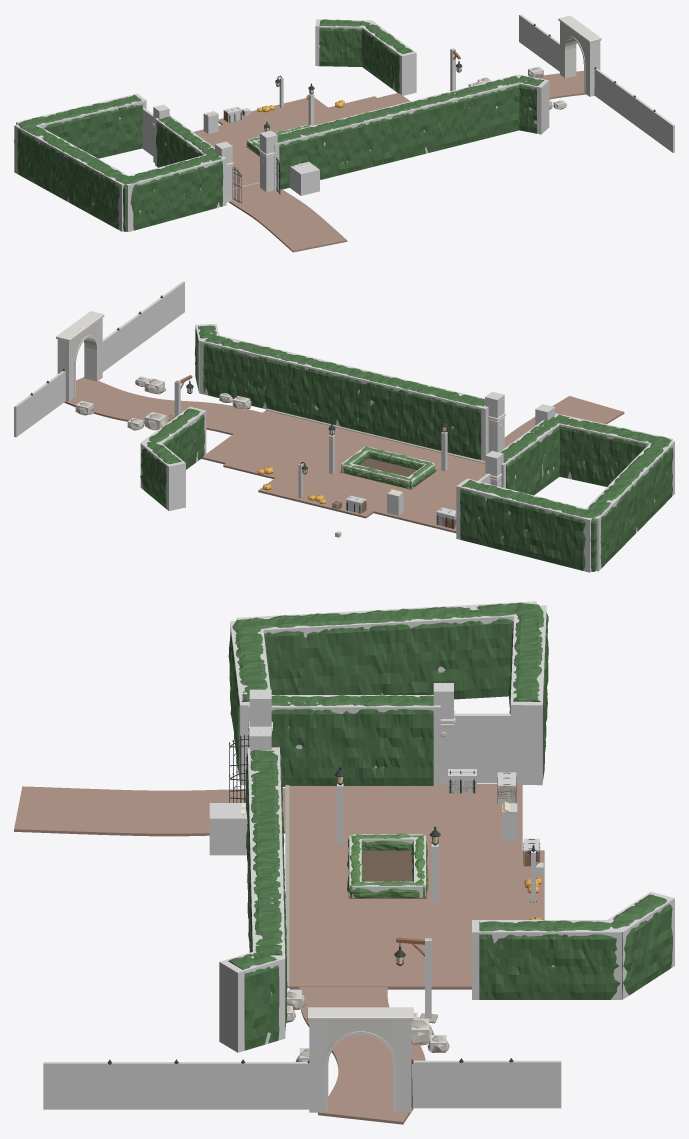
Rendered from AR_Assepoester_omgeving_v1.fbx.
The picture shows the model from 3 angles, top to bottom: view 1: azimuth 30°, elevation 25°; view 2: azimuth 150°, elevation 25°; view 3: azimuth 270°, elevation 25°; orthographic projection. The views are drawn at different scales.
Visible parts, largest first — view 1: static__MAT_haag_0, static__MAT_haag_1, static__MAT_klinker_0, COLL_36, static__MAT_haag_2, COLL_6, COLL_37, COLL_9, static__MAT_omlijsting_0, COLL_12, static__MAT_stuc_0, COLL_8 (+10 smaller); view 2: static__MAT_haag_0, static__MAT_klinker_0, static__MAT_haag_1, COLL_36, COLL_6, static__MAT_buxus_0, COLL_37, static__MAT_omlijsting_0, COLL_10, COLL_13, COLL_9, static__MAT_haag_2 (+11 smaller); view 3: static__MAT_klinker_0, static__MAT_haag_1, static__MAT_haag_0, COLL_36, COLL_37, COLL_17, COLL_10, COLL_7, static__MAT_buxus_0, static__MAT_omlijsting_0, static__MAT_stuc_0, static__MAT_haag_2 (+15 smaller).
Boxes of the visible parts, x1=… form: static__MAT_haag_0: x1=95, y1=75, x2=543, y2=231; static__MAT_haag_1: x1=14, y1=21, x2=412, y2=217; static__MAT_klinker_0: x1=193, y1=70, x2=586, y2=252; COLL_36: x1=594, y1=68, x2=674, y2=152; static__MAT_haag_2: x1=319, y1=19, x2=412, y2=93; COLL_6: x1=274, y1=74, x2=526, y2=190; COLL_37: x1=519, y1=14, x2=559, y2=71; COLL_9: x1=14, y1=124, x2=128, y2=231; static__MAT_omlijsting_0: x1=152, y1=15, x2=601, y2=202; COLL_12: x1=361, y1=20, x2=416, y2=95; static__MAT_stuc_0: x1=560, y1=22, x2=589, y2=96; COLL_8: x1=126, y1=155, x2=226, y2=232; static__MAT_haag_0: x1=194, y1=325, x2=673, y2=512; static__MAT_klinker_0: x1=64, y1=377, x2=624, y2=533; static__MAT_haag_1: x1=140, y1=408, x2=657, y2=571; COLL_36: x1=102, y1=281, x2=184, y2=371; COLL_6: x1=199, y1=333, x2=488, y2=460; static__MAT_buxus_0: x1=341, y1=446, x2=435, y2=488; COLL_37: x1=14, y1=371, x2=65, y2=437; static__MAT_omlijsting_0: x1=56, y1=311, x2=545, y2=485; COLL_10: x1=456, y1=478, x2=592, y2=572; COLL_13: x1=140, y1=441, x2=185, y2=510; COLL_9: x1=586, y1=440, x2=674, y2=571; static__MAT_haag_2: x1=149, y1=447, x2=181, y2=508; static__MAT_klinker_0: x1=14, y1=784, x2=544, y2=1124; static__MAT_haag_1: x1=237, y1=602, x2=642, y2=999; static__MAT_haag_0: x1=228, y1=614, x2=317, y2=1050; COLL_36: x1=43, y1=1062, x2=309, y2=1109; COLL_37: x1=412, y1=1060, x2=561, y2=1108; COLL_17: x1=454, y1=713, x2=510, y2=783; COLL_10: x1=510, y1=605, x2=546, y2=785; COLL_7: x1=219, y1=952, x2=284, y2=1052; static__MAT_buxus_0: x1=347, y1=833, x2=428, y2=898; static__MAT_omlijsting_0: x1=210, y1=686, x2=455, y2=1111; static__MAT_stuc_0: x1=309, y1=1021, x2=411, y2=1112; static__MAT_haag_2: x1=620, y1=894, x2=672, y2=987.
Size of the model in its own units: 30.85 by 5.23 by 19.5.
